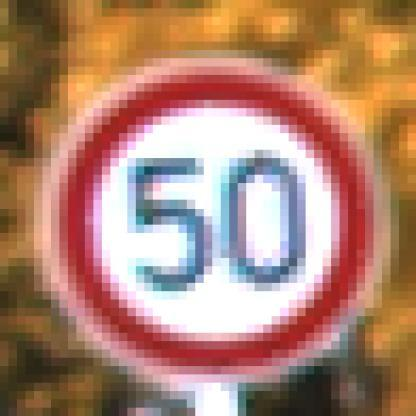Speed Limit -50-: (80, 126, 336, 349)
